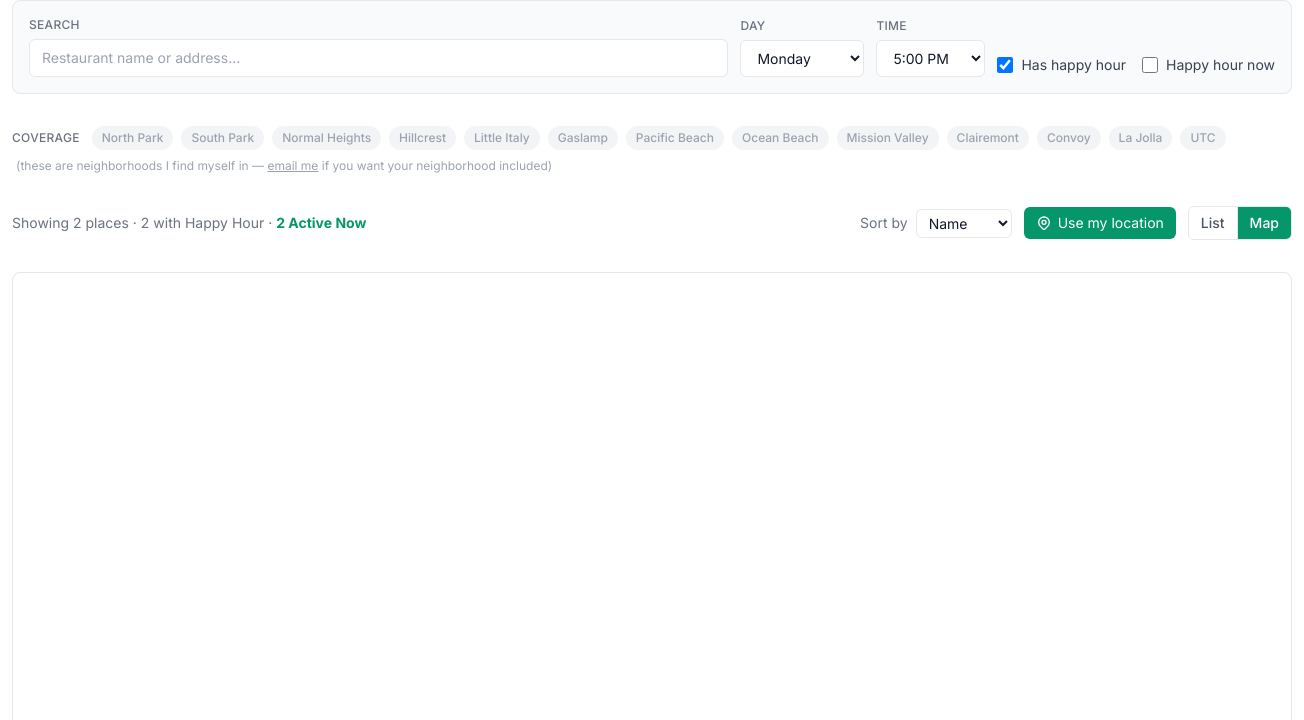
HappyHourFinder - Sorting by Distance › Given location is active and sorting by distance, When the user clears location, Then sort reverts to "Name"
The image size is (1304, 720).
Click the button "List" at point(1213, 223), box 1189,207 -> 1237,239
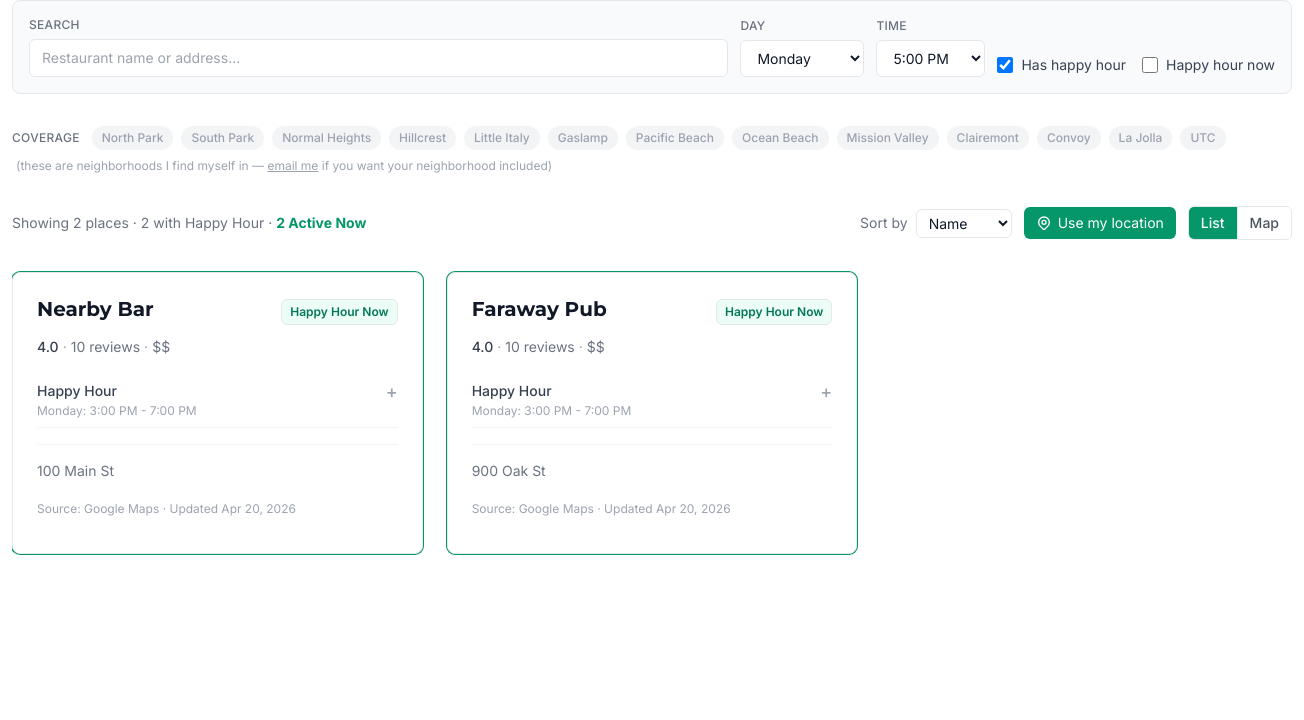
Click the button "Use my location" at point(1100, 223), box 1024,207 -> 1176,239
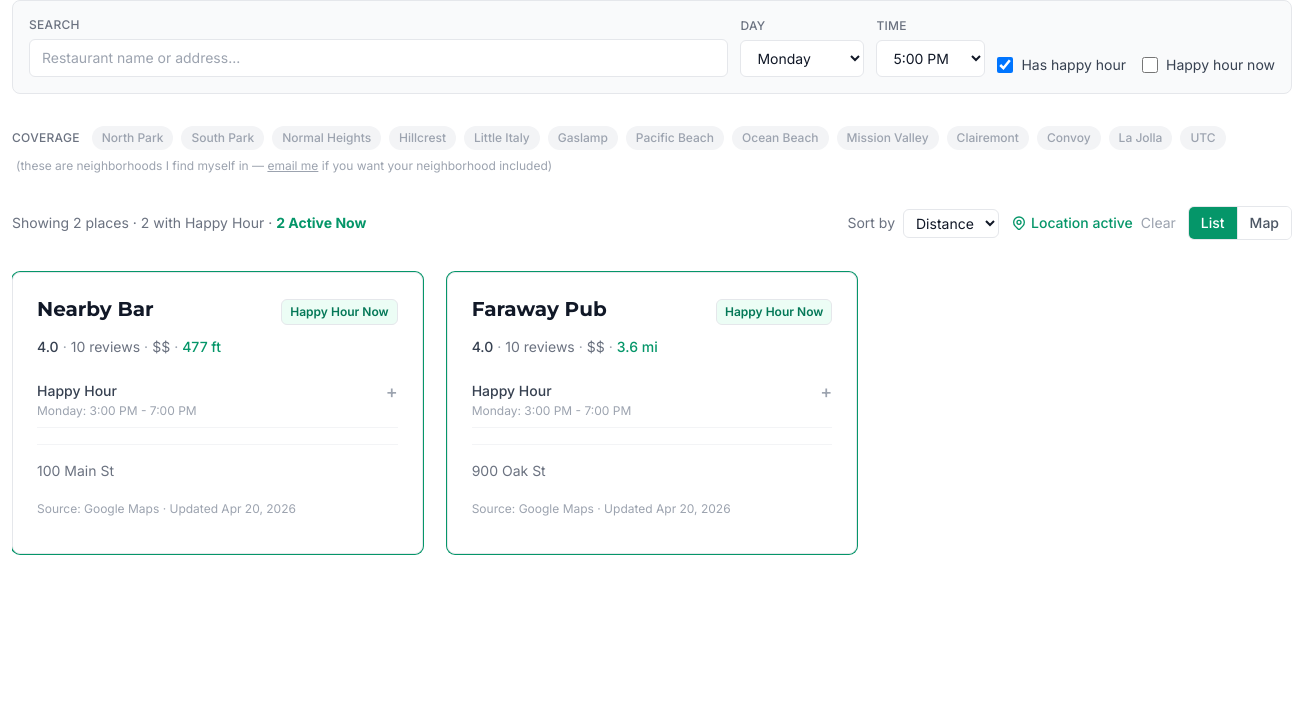
Check: the text "Location active" is shown, box 1011,213 -> 1133,233
Select "Distance" in the dropdown labelled "Sort by" at point(951, 223), box 903,208 -> 999,238
Click the button "Clear" at point(1158, 223), box 1141,213 -> 1176,233
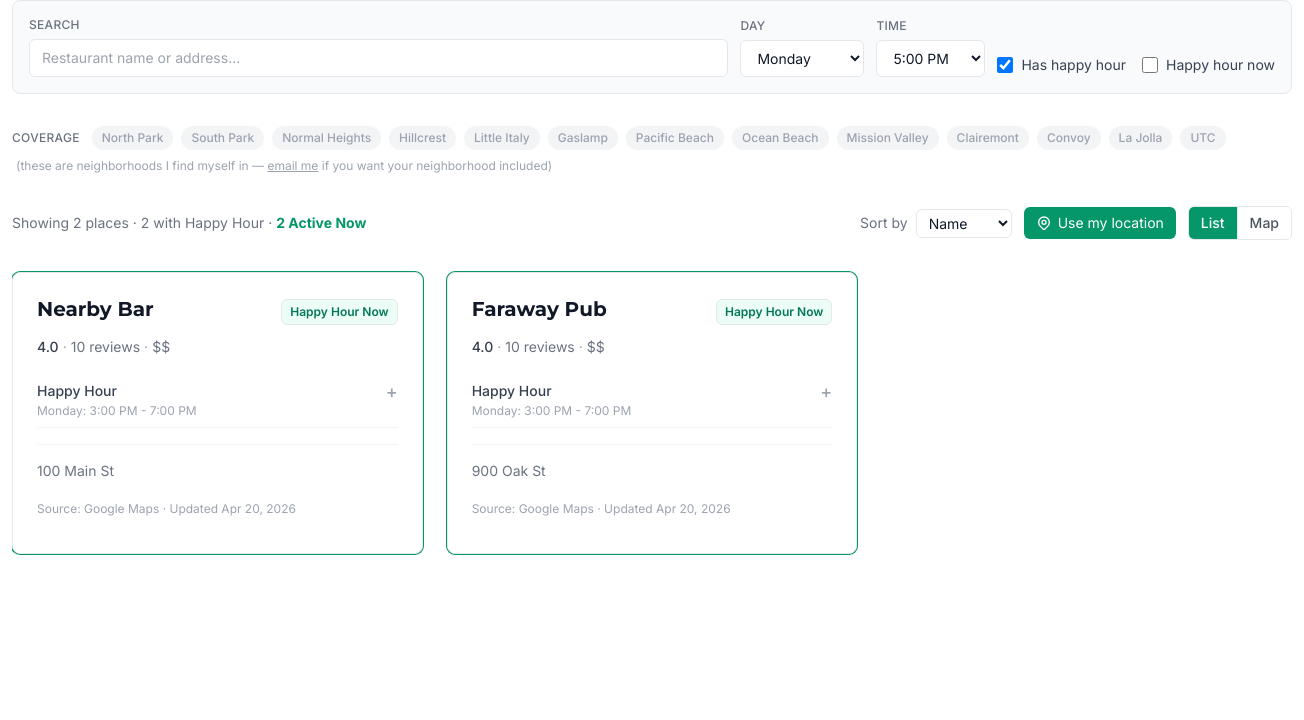
Check: the button "Use my location" is shown, box 1024,207 -> 1176,239
